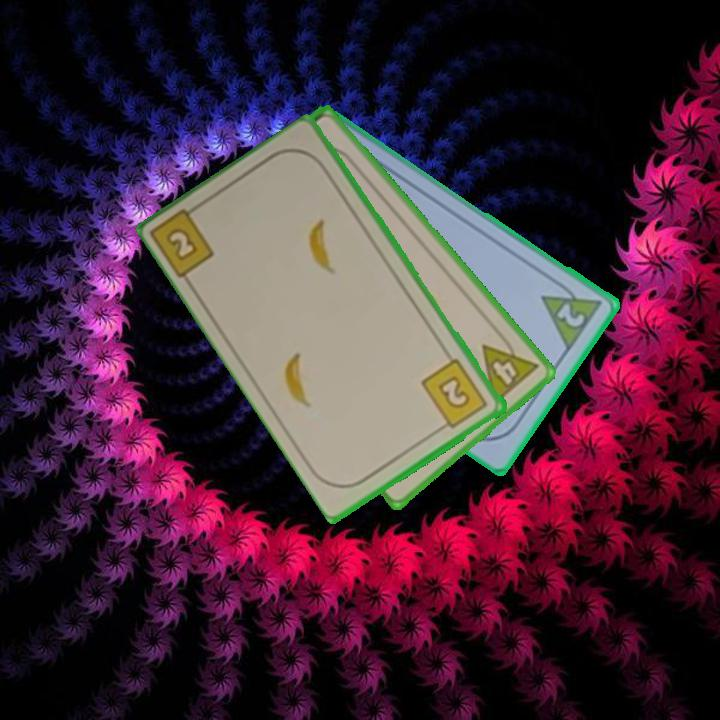2b: (418, 355, 491, 434), (150, 198, 218, 282)
2p: (553, 298, 589, 331)
4p: (478, 327, 542, 408)
